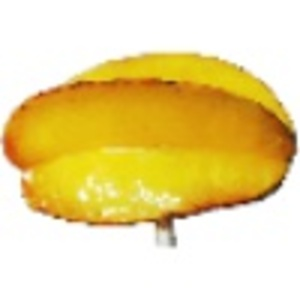carambola: (1, 49, 300, 242)
